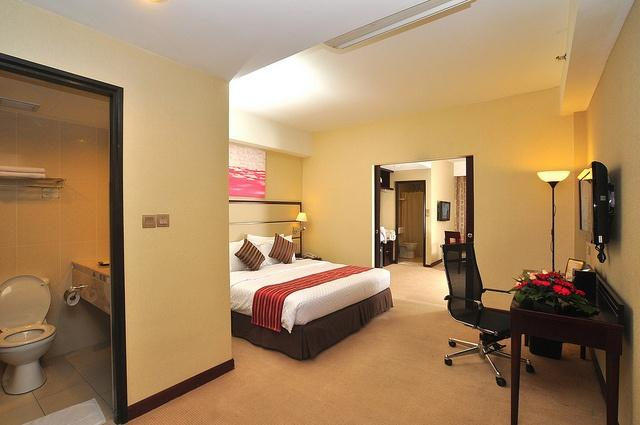Kursi: (440, 241, 513, 387)
Meja: (508, 268, 624, 424)
